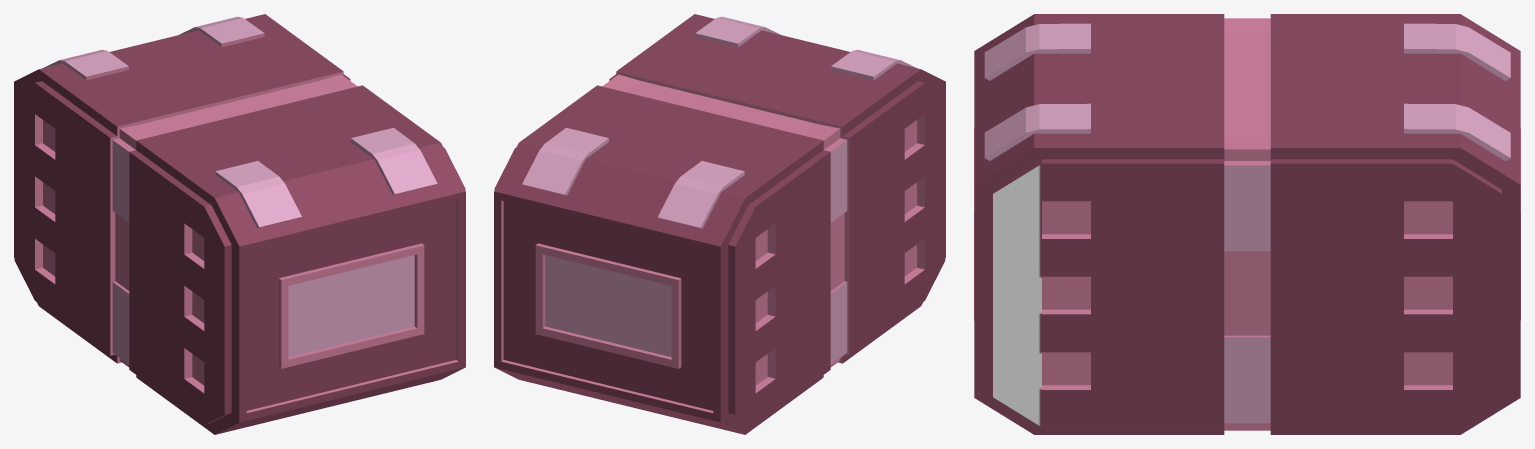
Rendered from skrzynia.glb.
3 views of the same model, side by side, from view 1: azimuth 30°, elevation 25°; view 2: azimuth 150°, elevation 25°; view 3: azimuth 270°, elevation 25° (orthographic). The views are drawn at different scales.
Parts seen in each view (by area): view 1: Cube; view 2: Cube; view 3: Cube.
Part boxes in pixels (box(x1,y1,x2,y2)): Cube: box(14, 14, 465, 434); Cube: box(494, 14, 945, 434); Cube: box(974, 14, 1520, 434).
Size of the model in its own units: 7.38 by 7.06 by 12.
1 material, 1 textured.
